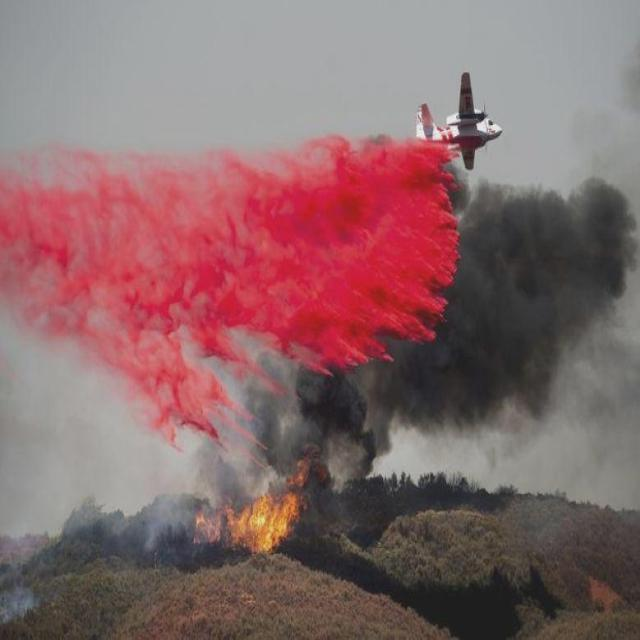Fire: (191, 457, 310, 554)
Smoke: (142, 160, 640, 558), (1, 584, 44, 626)
